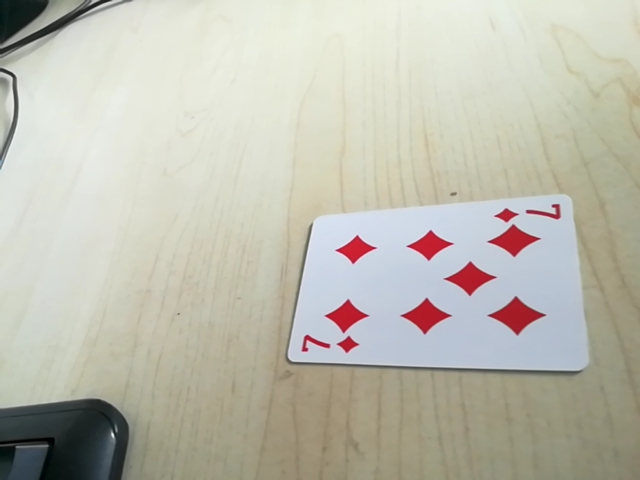fk 7: (494, 200, 568, 229), (294, 333, 360, 359)
